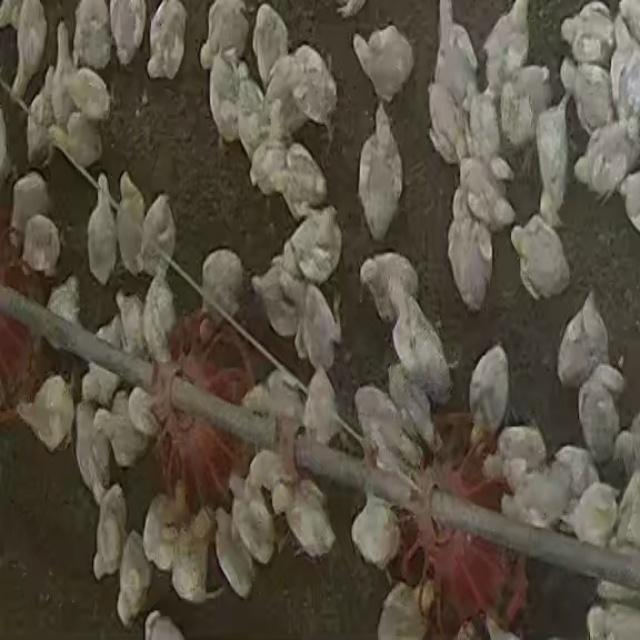chicken: (387, 288, 451, 409), (357, 103, 404, 241), (447, 185, 495, 315), (495, 62, 555, 161), (556, 293, 610, 393), (511, 213, 572, 301), (170, 507, 222, 610), (532, 97, 572, 229), (351, 21, 417, 100), (454, 153, 514, 238), (576, 362, 622, 470), (286, 204, 343, 287), (468, 339, 508, 451), (196, 248, 243, 342), (284, 480, 336, 563), (301, 365, 347, 458), (251, 259, 302, 342), (212, 503, 256, 599), (296, 284, 341, 377), (564, 58, 614, 140), (142, 262, 180, 366), (349, 491, 399, 570), (86, 171, 120, 287), (9, 2, 48, 102), (199, 0, 250, 76), (92, 482, 130, 580), (74, 407, 110, 508), (116, 529, 152, 627), (139, 191, 178, 281), (9, 173, 51, 256), (377, 581, 435, 640), (116, 173, 147, 279), (146, 0, 188, 78), (250, 4, 288, 88), (72, 1, 114, 72), (20, 211, 62, 278), (108, 0, 145, 67)
